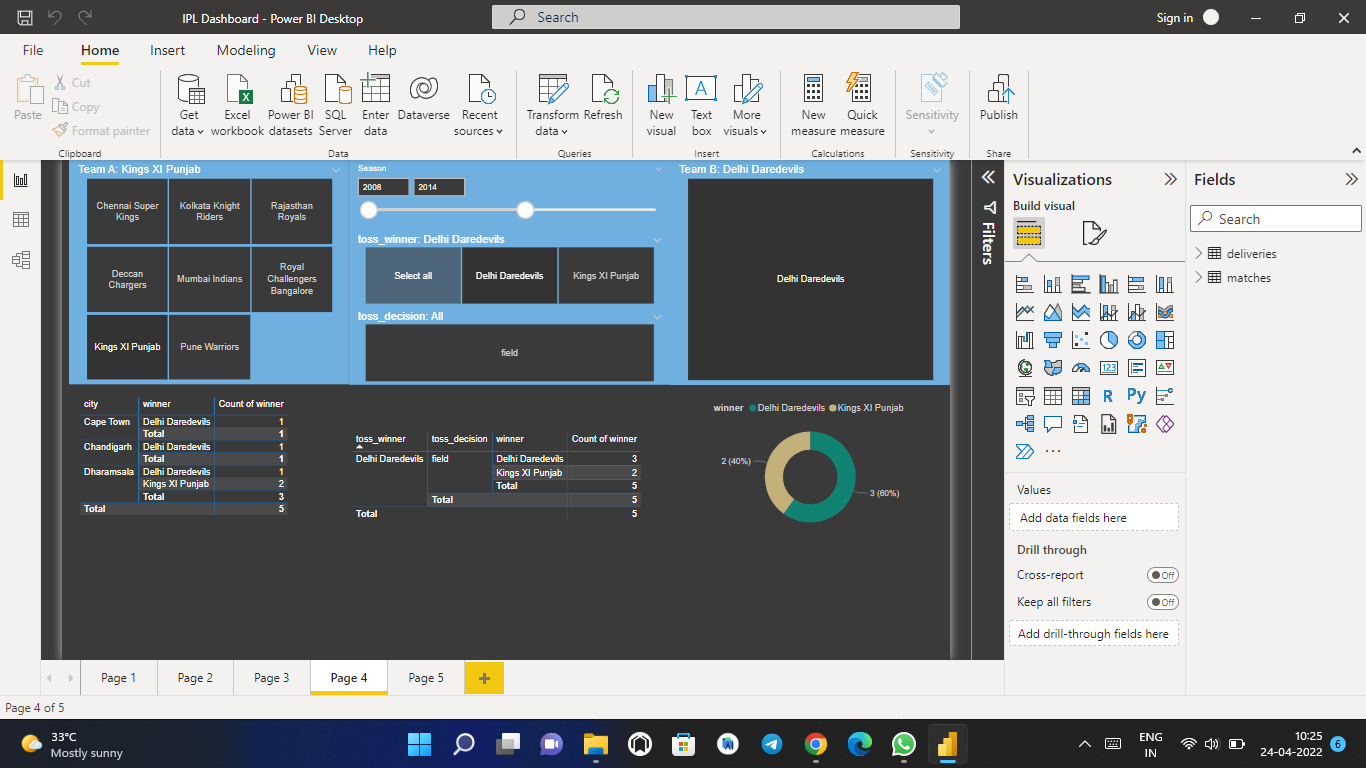

The dashboard page shown, as its layout file describes it:
{"tool":"powerbi","page":{"name":"Page 4","canvas":[1280,720],"ordinal":3},"visuals":[{"type":"slicer","fields":{"Values":["matches.team1"]},"box":[9.6,0,403.3,323.4],"z":0},{"type":"slicer","fields":{"Values":["matches.team2"]},"box":[876.2,0,403.3,323.8],"z":1000},{"type":"slicer","fields":{"Values":["matches.season"]},"box":[413.3,0,463,100.8],"z":2000},{"type":"slicer","fields":{"Values":["matches.toss_winner"]},"box":[413.3,100.8,463,110.8],"z":3000},{"type":"slicer","fields":{"Values":["matches.toss_decision"]},"box":[413.3,211.6,463,112.2],"z":4000},{"type":"donutChart","fields":{"Category":["matches.winner"],"Y":["CountNonNull(matches.winner)"]},"box":[911.7,336.6,332.3,210.2],"z":5000},{"type":"pivotTable","fields":{"Rows":["matches.city","matches.winner"],"Values":["CountNonNull(matches.winner)"]},"box":[21.3,336.6,392,347.9],"z":6000},{"type":"pivotTable","fields":{"Rows":["matches.toss_winner","matches.toss_decision","matches.winner"],"Values":["CountNonNull(matches.winner)"]},"box":[413.3,387.7,519.8,296.8],"z":7000}]}

Visuals, with their boxes on the page's 1280x720 design canvas (x1, y1, x2, y2). These are canvas units, not pixel positions in the 1366x768 screenshot, which may show the page scaled, cropped or inside an application window:
slicer - matches.team1: 10/0/413/323
slicer - matches.team2: 876/0/1280/324
slicer - matches.season: 413/0/876/101
slicer - matches.toss_winner: 413/101/876/212
slicer - matches.toss_decision: 413/212/876/324
donutChart - matches.winner x CountNonNull(matches.winner): 912/337/1244/547
pivotTable - matches.city x matches.winner: 21/337/413/684
pivotTable - matches.toss_winner x matches.toss_decision: 413/388/933/684
